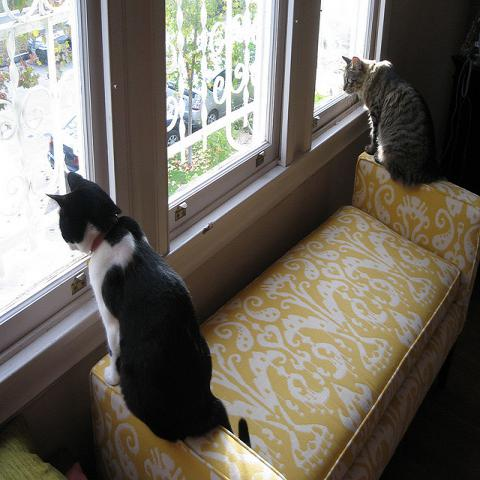car: (166, 64, 255, 147), (47, 111, 79, 195), (26, 22, 70, 66)
